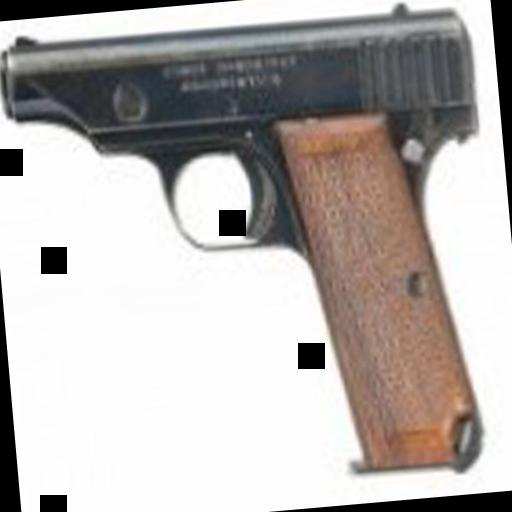Handgun: (0, 0, 504, 509)
